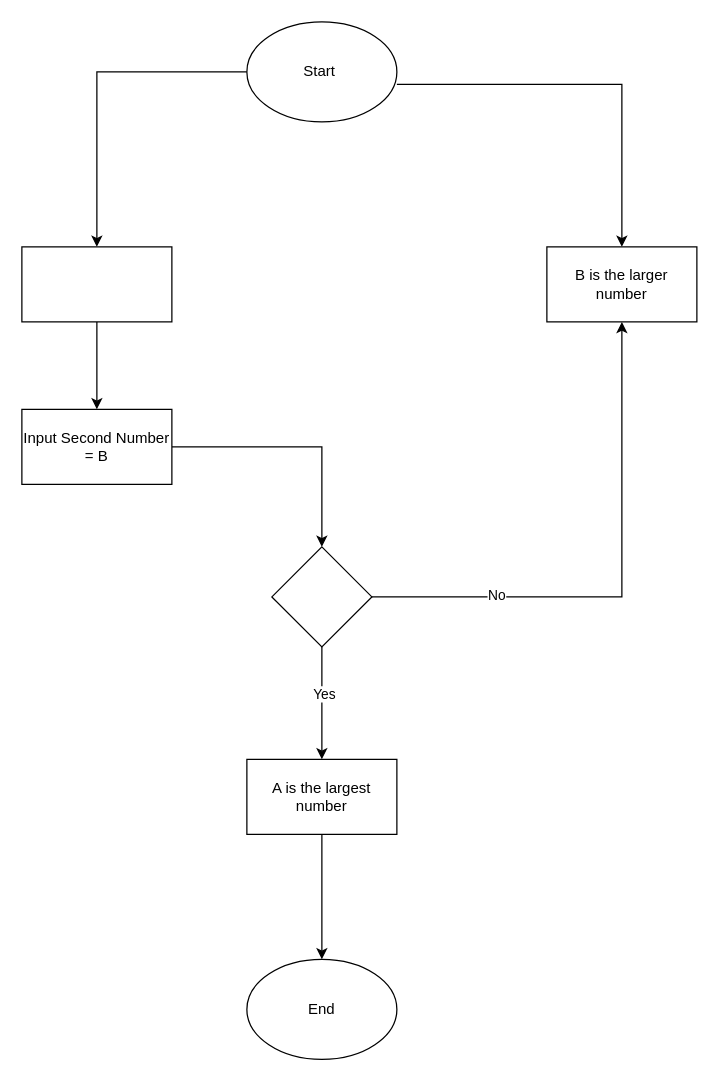
This 719x1081 diagram has some shape labels left out. The shapes that lost their labels are listed below. From the top down, each one's centre as x and y in pixels, then its label:
[96,284]: Input First number = A
[321,596]: Is A a larger number?
